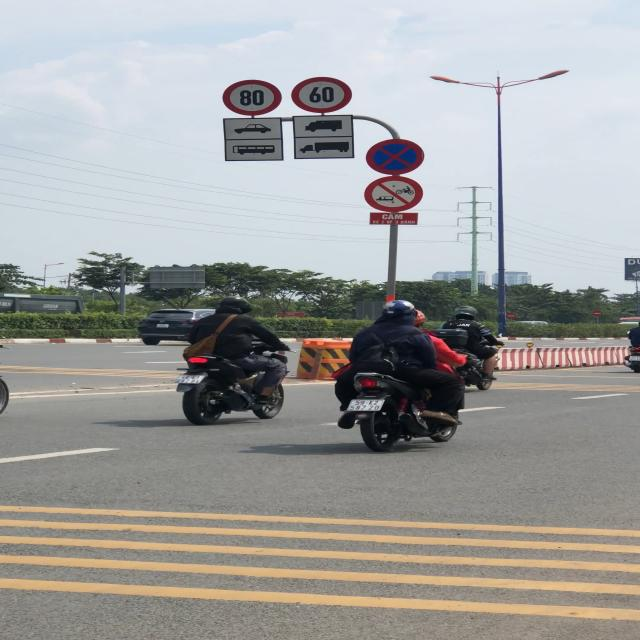Bien bao cam dung xe va do xe: (363, 137, 427, 176)
Bien bao toc do toi da cho phep: (289, 76, 354, 114), (222, 80, 282, 116)
